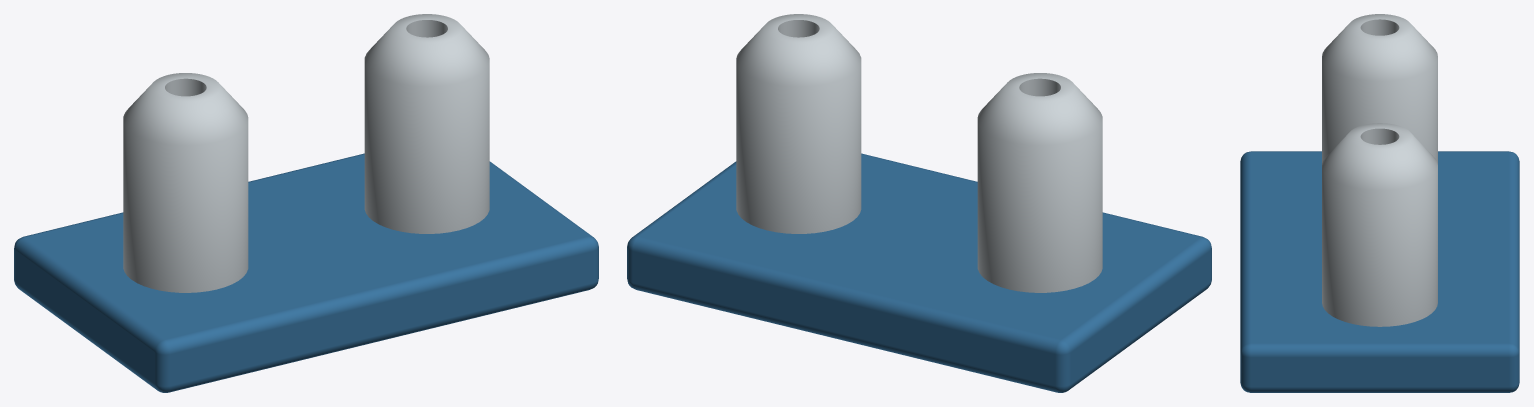
Rendered from fencing-club-and-tournament-piste-weight-test-set-9235d087__31219.glb.
3 views of the same model, side by side, from view 1: azimuth 30°, elevation 25°; view 2: azimuth 150°, elevation 25°; view 3: azimuth 270°, elevation 25° (orthographic). The views are drawn at different scales.
Parts seen in each view (by area): view 1: weight-test-set; view 2: weight-test-set; view 3: weight-test-set.
Boxes of the visible parts, x1,y1,x2,y2 form: weight-test-set: (14, 14, 598, 392); weight-test-set: (627, 14, 1211, 392); weight-test-set: (1240, 14, 1519, 392).
Size of the model in its own units: 0.22 by 0.11 by 0.13.
